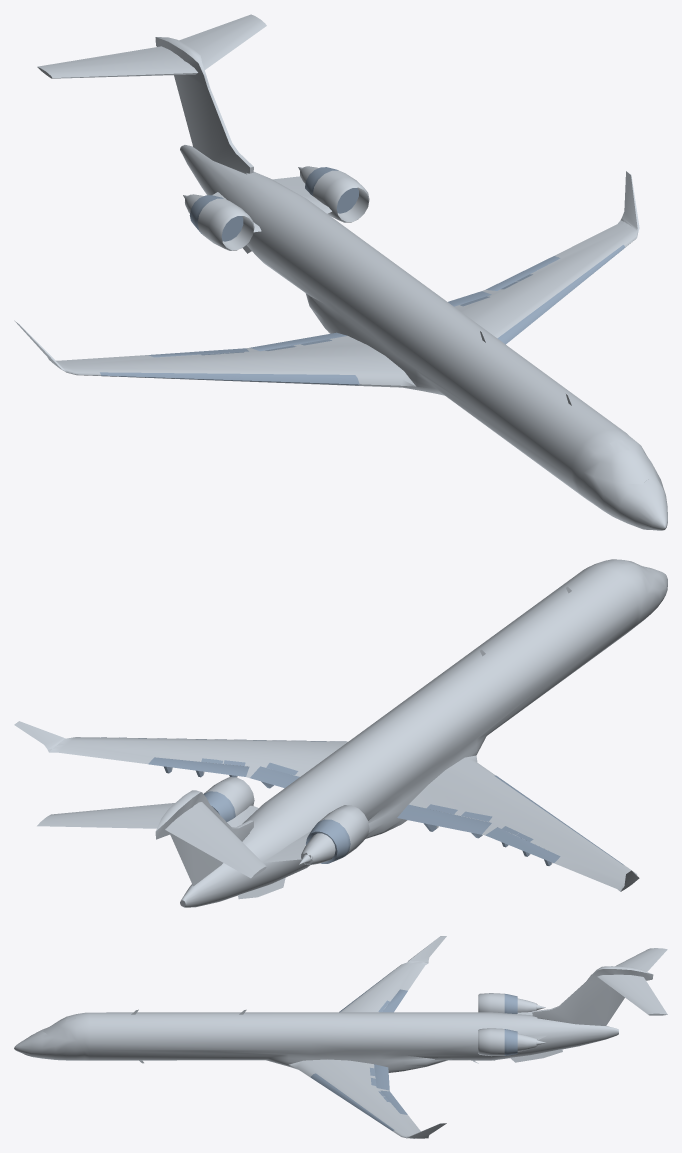
The model's file is crj9.glb.
3 renders of one model, top to bottom at view 1: azimuth 30°, elevation 25°; view 2: azimuth 150°, elevation 25°; view 3: azimuth 270°, elevation 25°, orthographic. The views are drawn at different scales.
Visible parts, largest first — view 1: node1, node83_anim_libxplanemp/controls/slat_ratio, node86_anim_libxplanemp/controls/slat_ratio; view 2: node1, node28_anim_libxplanemp/engines/thrust_reverser_deploy_ratio, node36_anim_libxplanemp/controls/flap_ratio, node32_anim_libxplanemp/controls/flap_ratio, node30_anim_libxplanemp/controls/flap_ratio, node34_anim_libxplanemp/controls/flap_ratio; view 3: node1, node28_anim_libxplanemp/engines/thrust_reverser_deploy_ratio, node86_anim_libxplanemp/controls/slat_ratio, node34_anim_libxplanemp/controls/flap_ratio.
Boxes of the visible parts, x1,y1,x2,y2 form: node1: [14, 14, 667, 530]; node83_anim_libxplanemp/controls/slat_ratio: [100, 372, 359, 385]; node86_anim_libxplanemp/controls/slat_ratio: [497, 245, 624, 344]; node1: [14, 559, 667, 907]; node28_anim_libxplanemp/engines/thrust_reverser_deploy_ratio: [204, 791, 350, 863]; node36_anim_libxplanemp/controls/flap_ratio: [397, 804, 491, 838]; node32_anim_libxplanemp/controls/flap_ratio: [148, 757, 249, 777]; node30_anim_libxplanemp/controls/flap_ratio: [485, 827, 560, 865]; node34_anim_libxplanemp/controls/flap_ratio: [250, 766, 299, 788]; node1: [14, 936, 667, 1138]; node28_anim_libxplanemp/engines/thrust_reverser_deploy_ratio: [504, 994, 517, 1055]; node86_anim_libxplanemp/controls/slat_ratio: [310, 1073, 394, 1131]; node34_anim_libxplanemp/controls/flap_ratio: [374, 1064, 389, 1090].
Size of the model in its own units: 24.54 by 6.12 by 36.2.
